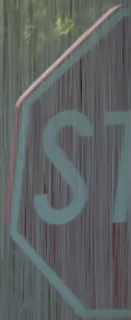Stop: (8, 7, 127, 280)
